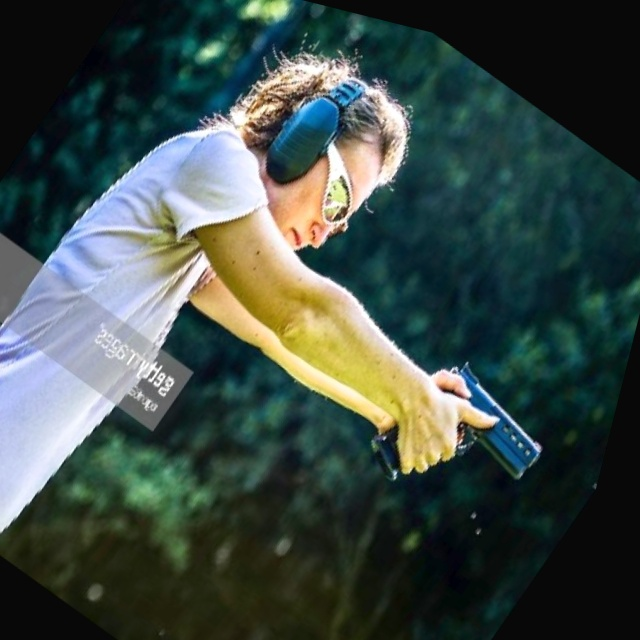gun: (337, 319, 587, 565)
